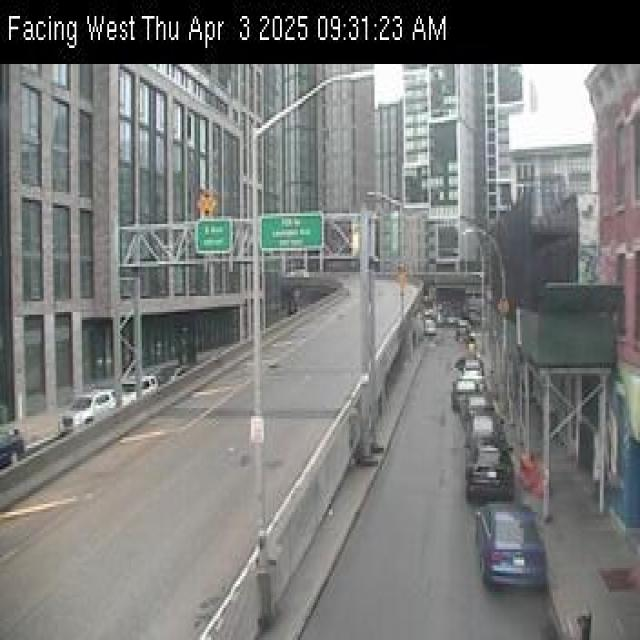open parking: (464, 429, 592, 640), (6, 386, 112, 465), (449, 306, 494, 416)
